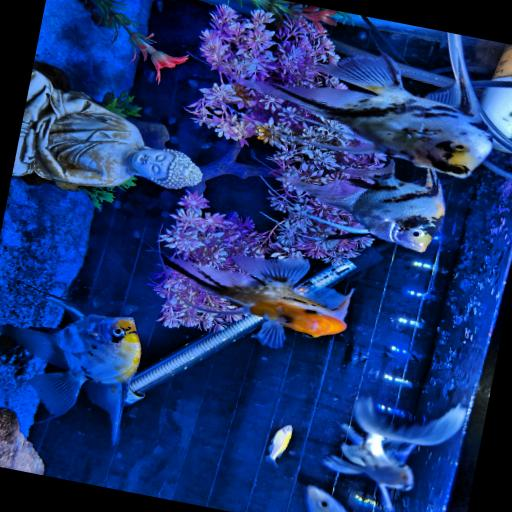Fish: (236, 52, 491, 176), (0, 296, 140, 441), (164, 254, 352, 347), (323, 398, 465, 510), (285, 159, 444, 251), (306, 485, 346, 511), (266, 424, 291, 465)
